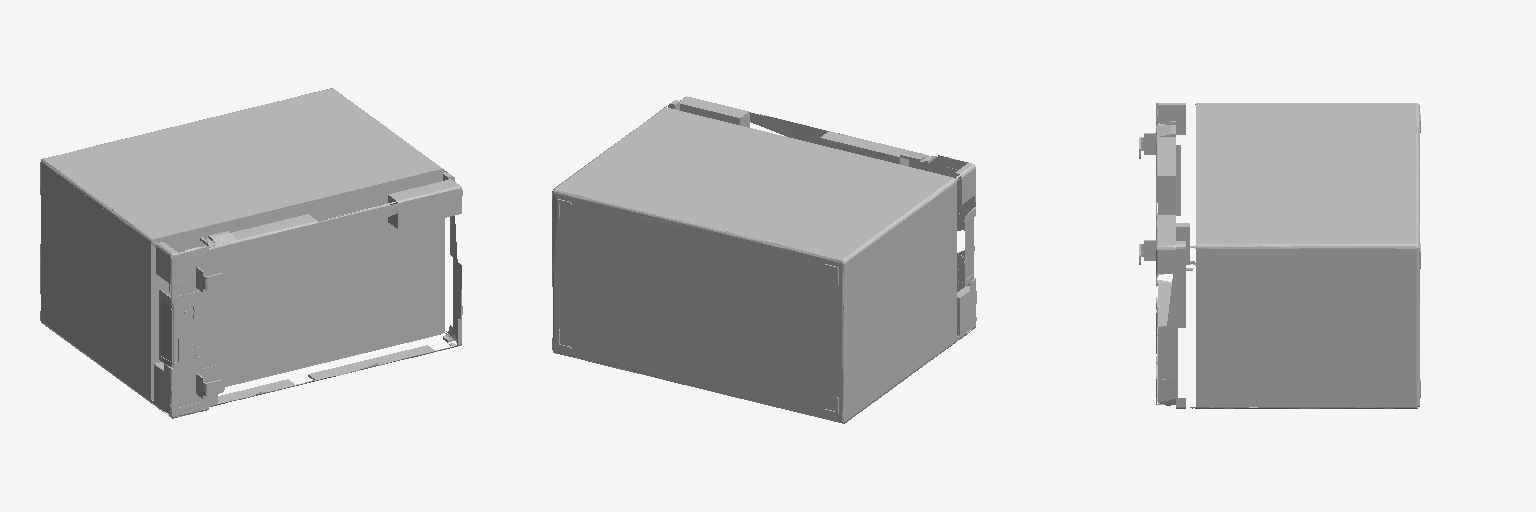
Rendered from battery.obj.
3 renders of one model, left to right at view 1: azimuth 30°, elevation 25°; view 2: azimuth 150°, elevation 25°; view 3: azimuth 270°, elevation 25°, orthographic.
Visible parts, largest first — view 1: obj_0; view 2: obj_0; view 3: obj_0.
Boxes of the visible parts, x1,y1,x2,y2 form: obj_0: [40, 88, 462, 418]; obj_0: [552, 96, 976, 423]; obj_0: [1139, 103, 1420, 408].
Size of the model in its own units: 6 by 3.23 by 5.